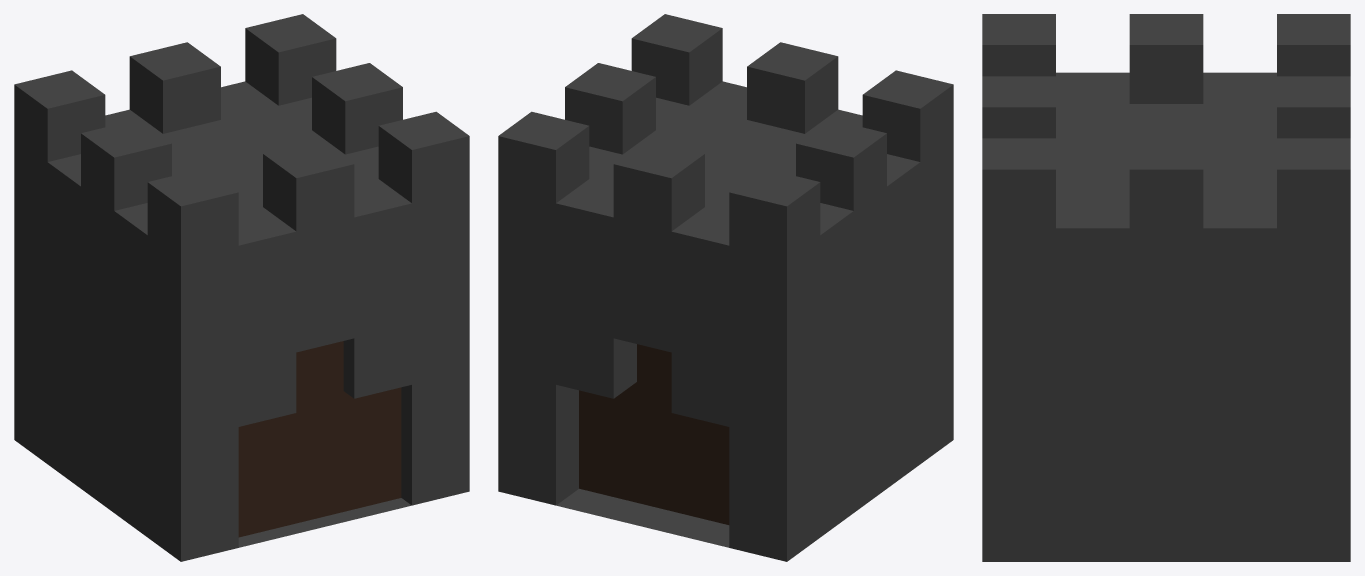
File: WallDoor.fbx
3 renders of one model, left to right at view 1: azimuth 30°, elevation 25°; view 2: azimuth 150°, elevation 25°; view 3: azimuth 270°, elevation 25°, orthographic. The views are drawn at different scales.
Visible parts, largest first — view 1: Cube; view 2: Cube; view 3: Cube.
Boxes of the visible parts, x1=… form: Cube: x1=14, y1=14, x2=469, y2=561; Cube: x1=498, y1=14, x2=953, y2=561; Cube: x1=982, y1=14, x2=1350, y2=561.
Size of the model in its own units: 200 by 235 by 200.
